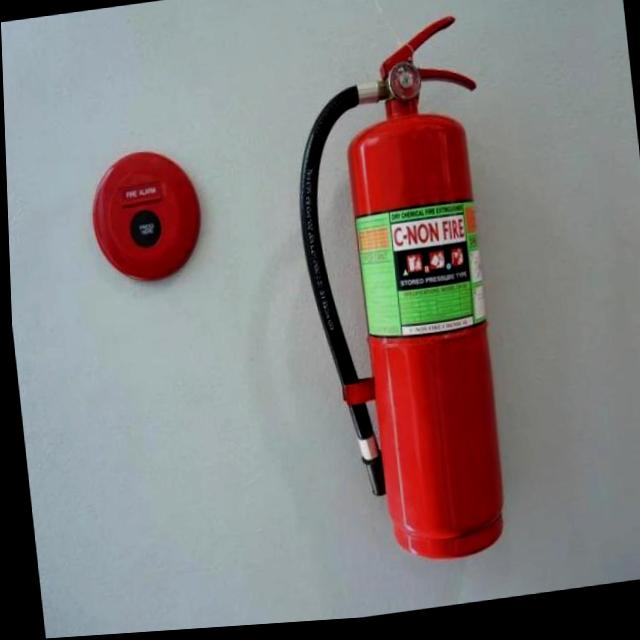FireExtinguisher: (276, 10, 524, 583)
